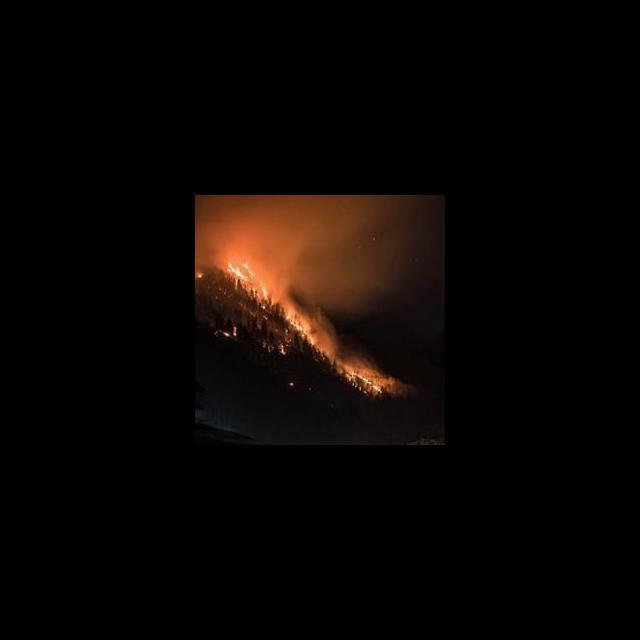Fire: (196, 256, 414, 409)
